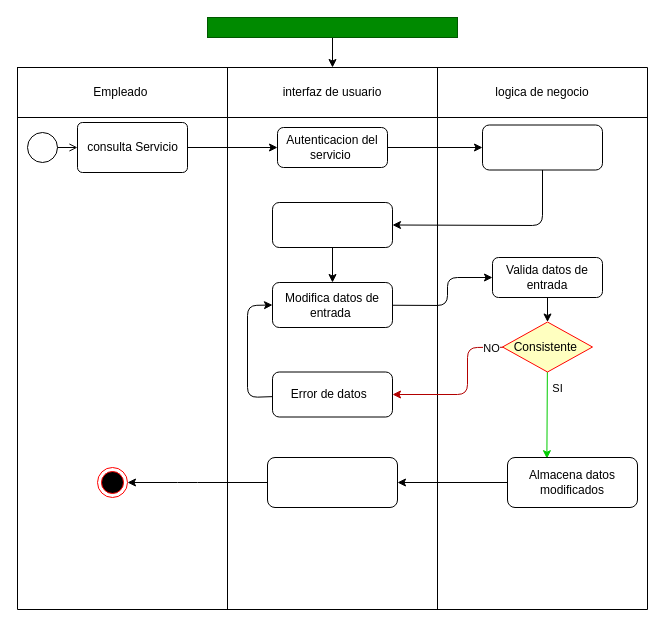
Some shapes in this 665 by 627 pixel diagram are drawn without their labels. The box of each missing label's shape, as (x1, y1, x2, y2) in pixels:
Consulta datos de entrada almacenados: (482, 124, 602, 170)
DAE.6.2.ACTUALIZAR SERVICIO DEL DIA: (206, 16, 458, 38)
Muestra datos de entrada: (272, 202, 392, 248)
Muestra nuevos datos del servicio del dia: (266, 456, 398, 508)
